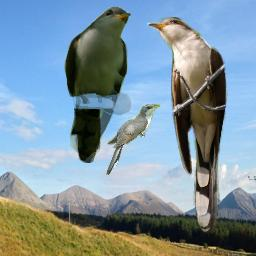Cuckoo: (147, 17, 228, 234), (64, 6, 131, 163), (106, 104, 160, 175)
